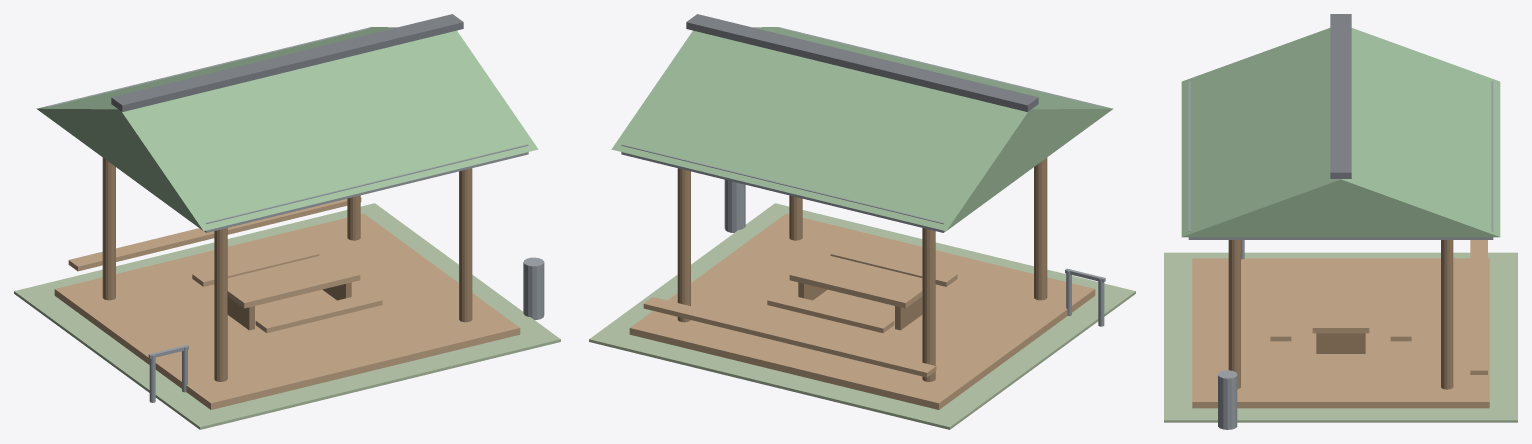
File: webtoon_riverside_park_pavilion.glb
3 views of the same model, side by side, from view 1: azimuth 30°, elevation 25°; view 2: azimuth 150°, elevation 25°; view 3: azimuth 270°, elevation 25° (orthographic). The views are drawn at different scales.
Visible parts, largest first — view 1: pavilion roof, deck, grass apron, pavilion post (×4), ridge cap, picnic table top, picnic bench (×2), deck bench, roof frame, drinking fountain, table leg; view 2: pavilion roof, deck, grass apron, pavilion post (×4), ridge cap, deck bench, picnic table top, picnic bench (×2), roof frame, drinking fountain, table leg; view 3: pavilion roof, deck, grass apron, pavilion post (×2), ridge cap, picnic table top, picnic bench (×2), deck bench, roof frame, drinking fountain, table leg.
Boxes of the visible parts, left/top/right/bottom form: pavilion roof: left=36, top=27, right=538, bottom=230; deck: left=54, top=213, right=520, bottom=409; grass apron: left=14, top=203, right=560, bottom=429; pavilion post (×4): left=102, top=157, right=472, bottom=381; ridge cap: left=111, top=14, right=463, bottom=111; picnic table top: left=227, top=253, right=360, bottom=308; picnic bench (×2): left=192, top=246, right=382, bottom=333; deck bench: left=68, top=197, right=361, bottom=271; roof frame: left=46, top=28, right=528, bottom=232; drinking fountain: left=523, top=257, right=544, bottom=319; table leg: left=227, top=296, right=254, bottom=330; pavilion roof: left=611, top=27, right=1113, bottom=230; deck: left=629, top=213, right=1095, bottom=409; grass apron: left=589, top=203, right=1135, bottom=429; pavilion post (×4): left=677, top=157, right=1047, bottom=381; ridge cap: left=686, top=14, right=1038, bottom=111; deck bench: left=643, top=297, right=936, bottom=377; picnic table top: left=789, top=253, right=922, bottom=308; picnic bench (×2): left=767, top=246, right=957, bottom=333; roof frame: left=621, top=28, right=1103, bottom=232; drinking fountain: left=724, top=180, right=745, bottom=232; table leg: left=895, top=296, right=922, bottom=330; pavilion roof: left=1181, top=28, right=1500, bottom=237; deck: left=1192, top=258, right=1489, bottom=408; grass apron: left=1164, top=252, right=1517, bottom=422; pavilion post (×2): left=1228, top=240, right=1453, bottom=389; ridge cap: left=1330, top=14, right=1351, bottom=178; picnic table top: left=1312, top=274, right=1369, bottom=333; picnic bench (×2): left=1270, top=283, right=1411, bottom=341; deck bench: left=1470, top=240, right=1487, bottom=374; roof frame: left=1188, top=81, right=1493, bottom=239; drinking fountain: left=1218, top=370, right=1237, bottom=429; table leg: left=1316, top=333, right=1365, bottom=353.
Bounding box in the file's own units: 5.99 × 3.83 × 5.
